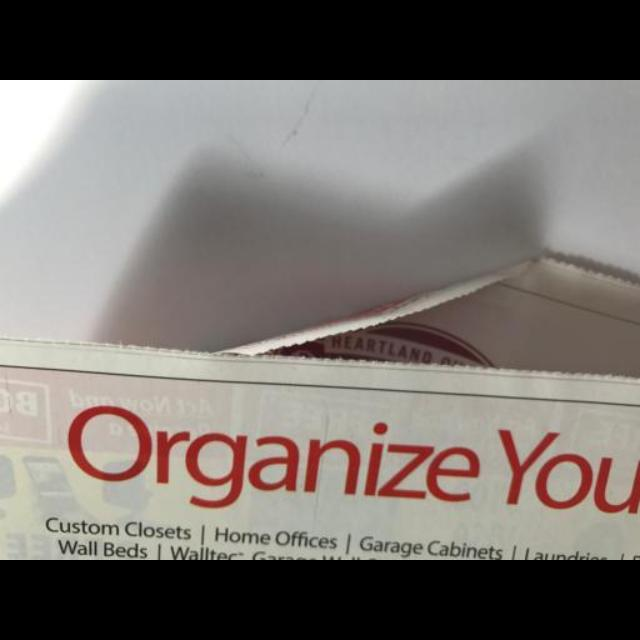papel: (0, 252, 640, 560)
